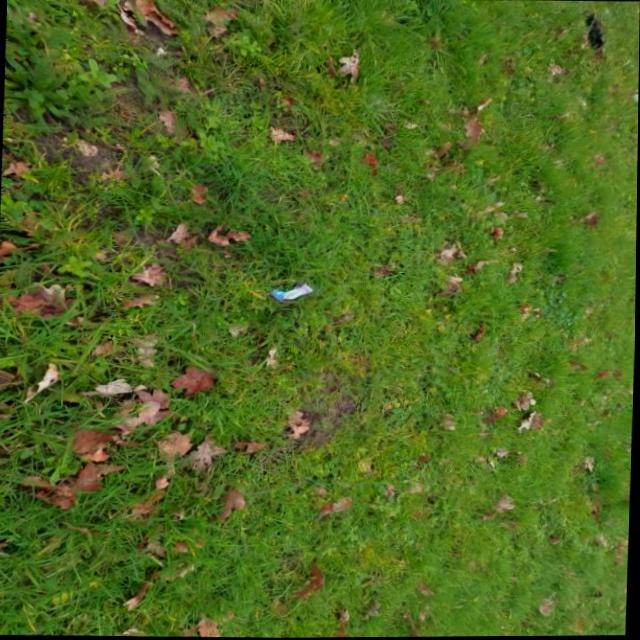Plastic: (257, 279, 324, 314)
